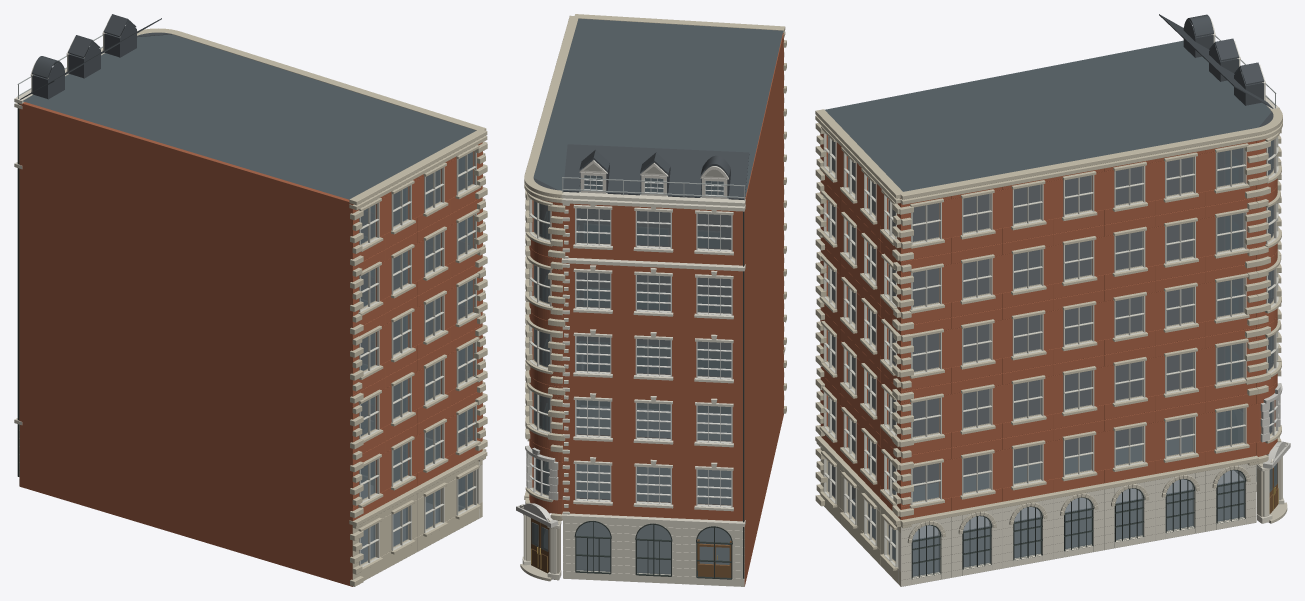
Rendered from 51l-exterior-5f72390b5604.glb.
3 views of the same model, side by side, from view 1: azimuth 30°, elevation 25°; view 2: azimuth 150°, elevation 25°; view 3: azimuth 270°, elevation 25° (orthographic).
Visible parts, largest first — view 1: 51L.001; view 2: 51L.001; view 3: 51L.001.
Part boxes in pixels (x1,y1,x2,y2): 51L.001: (14, 14, 487, 586); 51L.001: (516, 14, 786, 586); 51L.001: (815, 14, 1290, 586).
Bounding box in the file's own units: 18.34 × 22.82 × 22.96.
